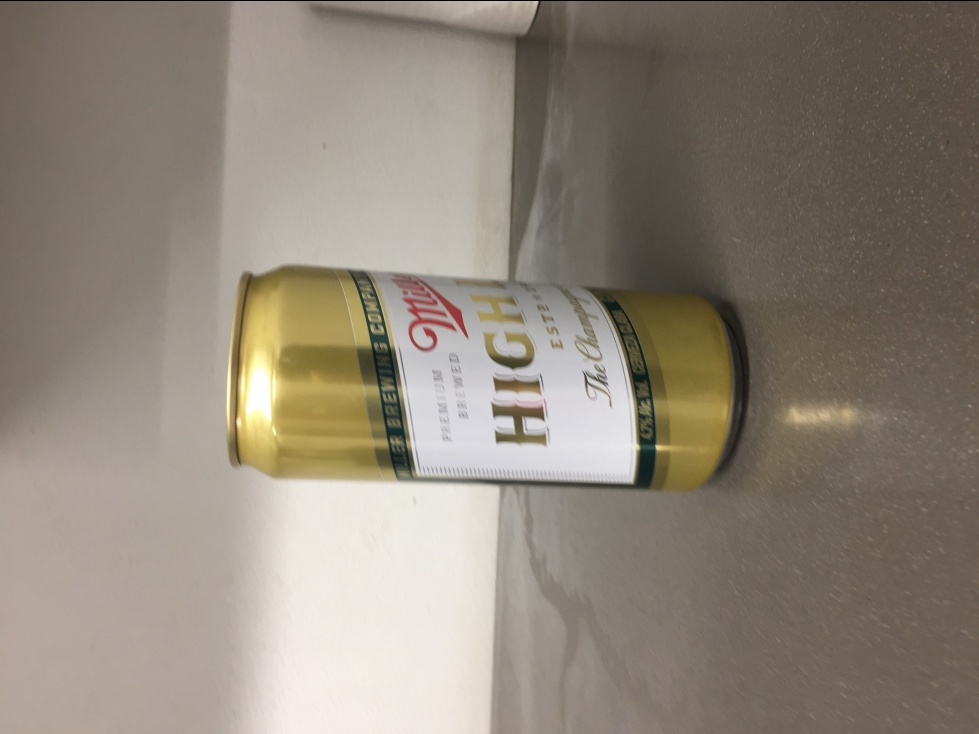miller: (223, 258, 751, 496)
